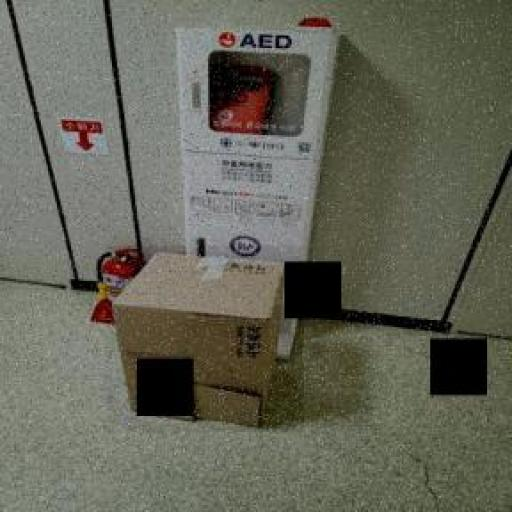box: (106, 246, 303, 433)
